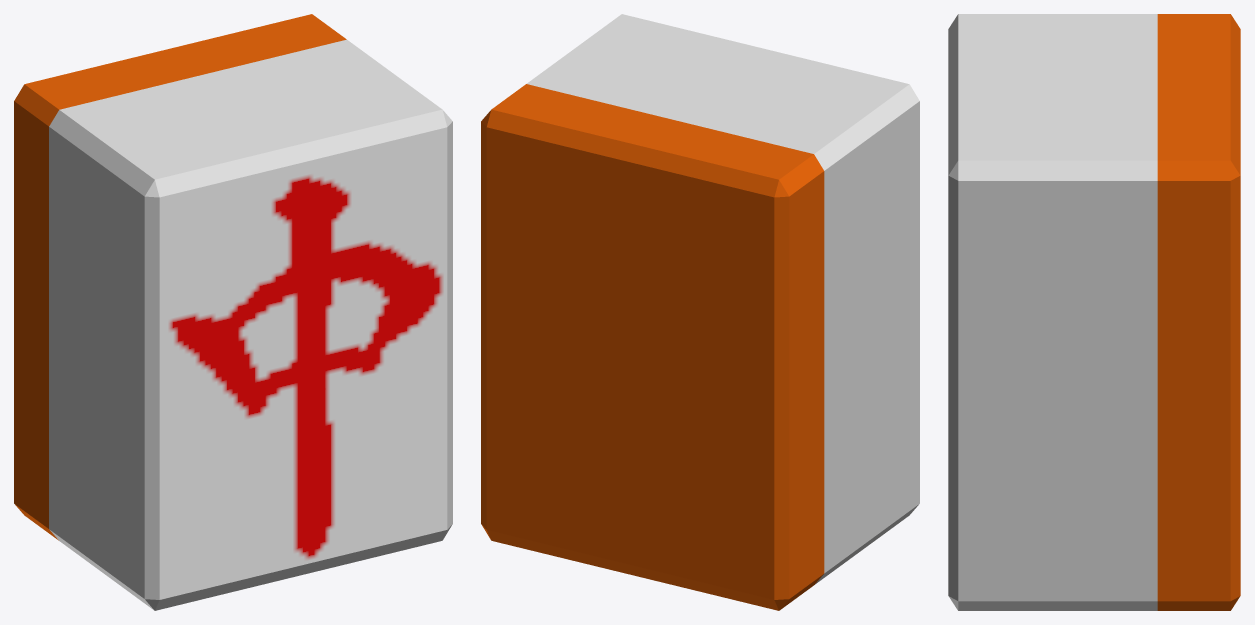
Rendered from Tyun.gltf.
3 views of the same model, side by side, from view 1: azimuth 30°, elevation 25°; view 2: azimuth 150°, elevation 25°; view 3: azimuth 270°, elevation 25° (orthographic). The views are drawn at different scales.
Visible parts, largest first — view 1: Cube; view 2: Cube; view 3: Cube.
Boxes of the visible parts, bbox=[...] form: Cube: bbox=[14, 14, 452, 610]; Cube: bbox=[481, 14, 919, 610]; Cube: bbox=[948, 14, 1240, 610].
Bounding box in the file's own units: 1.95 × 2.6 × 1.53.
3 materials, 1 textured.
